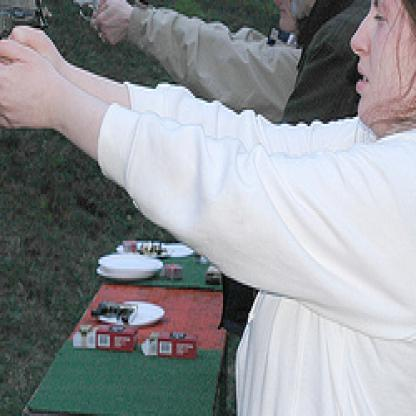gun: (0, 0, 52, 84), (47, 0, 123, 35)
